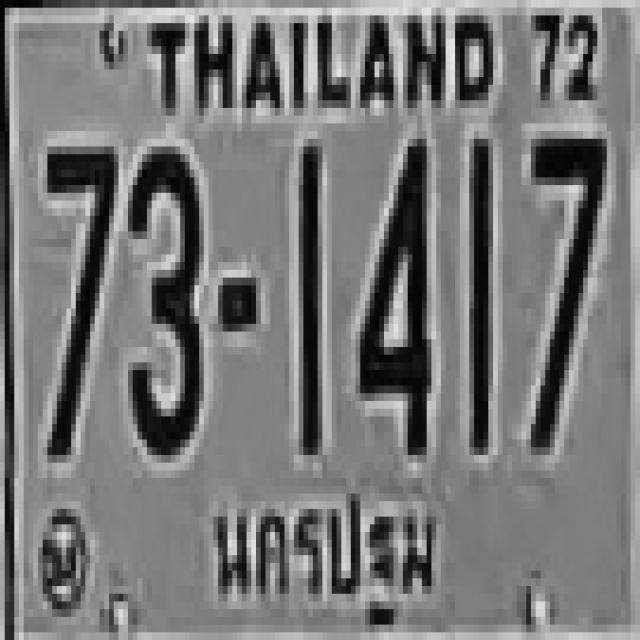1: (296, 143, 320, 451), (465, 135, 488, 443)
3: (124, 142, 209, 458)
4: (356, 131, 434, 457)
7: (526, 131, 609, 456), (43, 139, 117, 458)
NakhonPathom: (199, 480, 440, 634)
